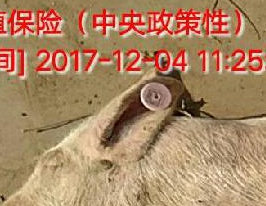text: (125, 73, 183, 118)
